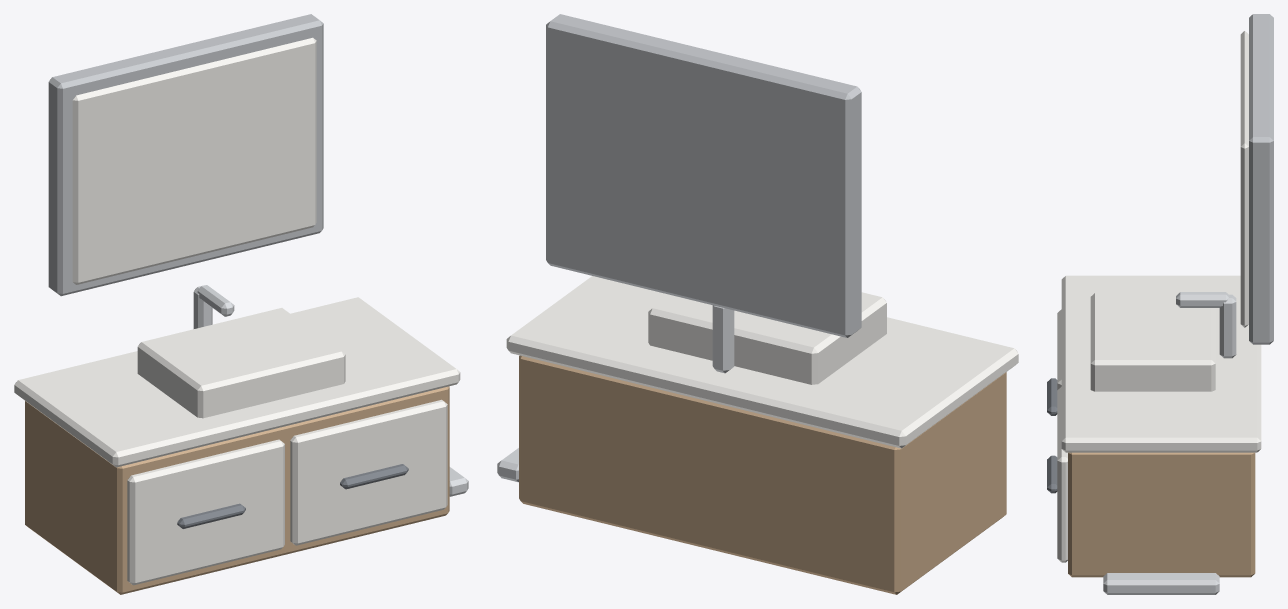
File: FloatingVanity.glb
The picture shows the model from 3 angles, left to right: view 1: azimuth 30°, elevation 25°; view 2: azimuth 150°, elevation 25°; view 3: azimuth 270°, elevation 25°; orthographic projection. The views are drawn at different scales.
Parts seen in each view (by area): view 1: SpaceSaver_FloatingVanity; view 2: SpaceSaver_FloatingVanity; view 3: SpaceSaver_FloatingVanity.
Part boxes in pixels (x1,y1,x2,y2): SpaceSaver_FloatingVanity: [14, 14, 468, 594]; SpaceSaver_FloatingVanity: [497, 14, 1018, 594]; SpaceSaver_FloatingVanity: [1047, 14, 1273, 594].
Size of the model in its own units: 1.02 by 1.12 by 0.545.
